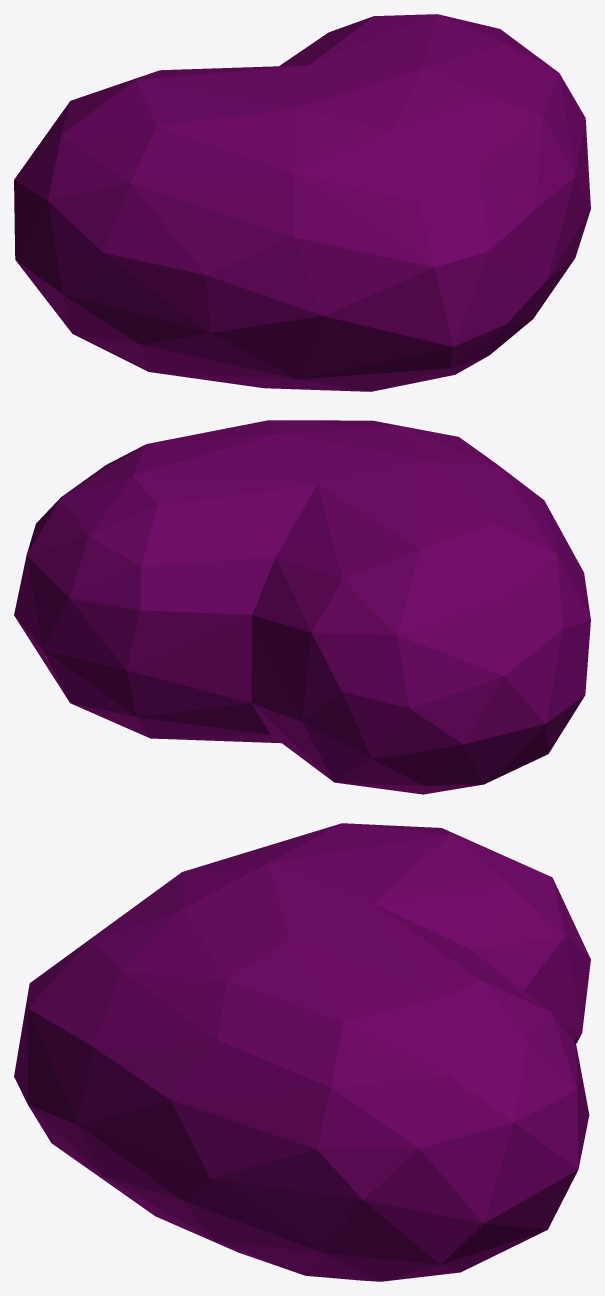
The model's file is love.FBX.
3 views of the same model, one above another, from view 1: azimuth 30°, elevation 25°; view 2: azimuth 150°, elevation 25°; view 3: azimuth 270°, elevation 25° (orthographic). The views are drawn at different scales.
Parts seen in each view (by area): view 1: love; view 2: love; view 3: love.
Part boxes in pixels (x1,y1,x2,y2): love: [14, 14, 590, 391]; love: [14, 420, 590, 794]; love: [14, 823, 590, 1281].
Size of what is drawn, in the model's own units: 80.33 by 67.16 by 39.58.
